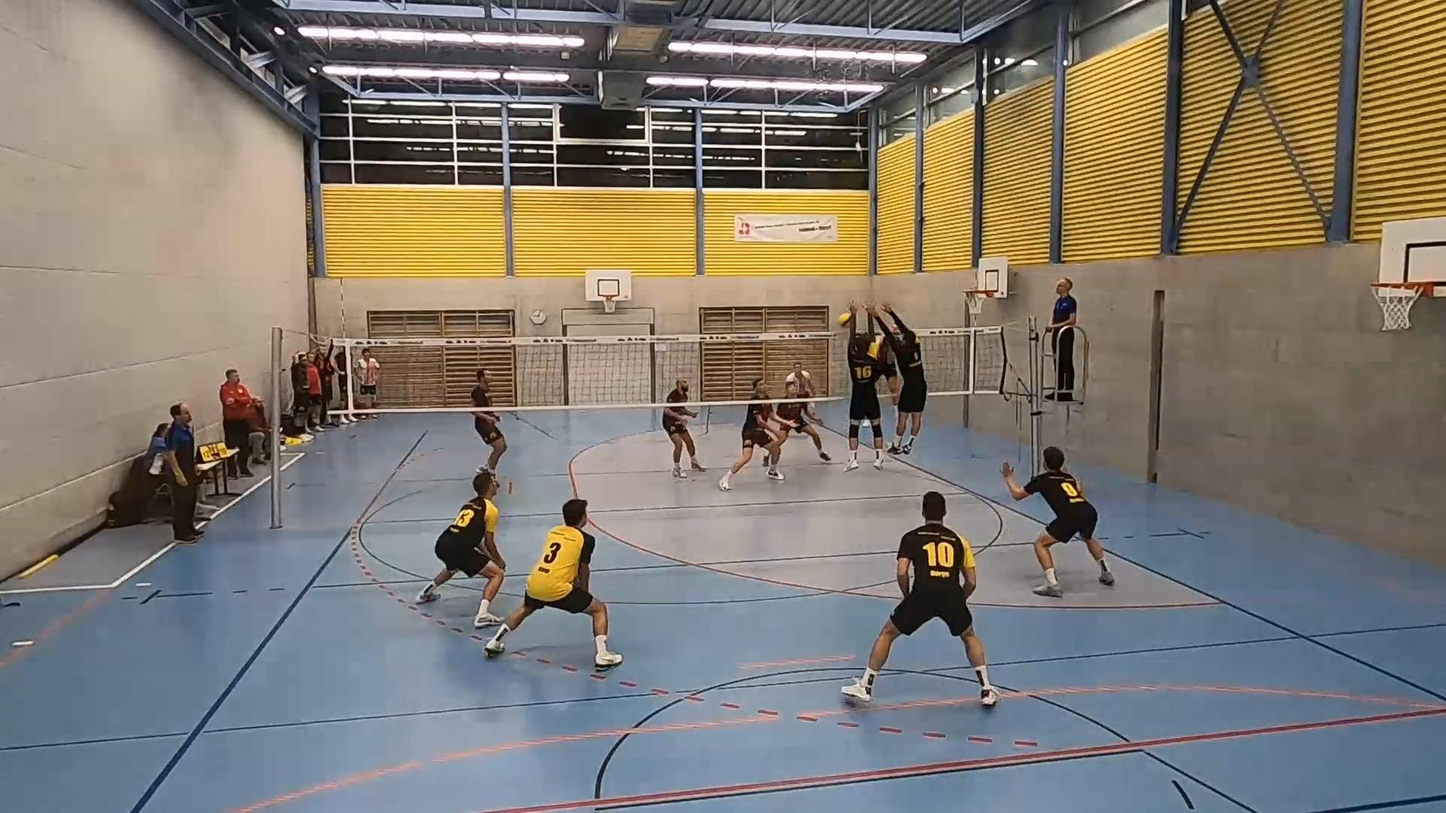attacco: (869, 321, 901, 408)
muro: (864, 301, 928, 468), (840, 298, 888, 474)
